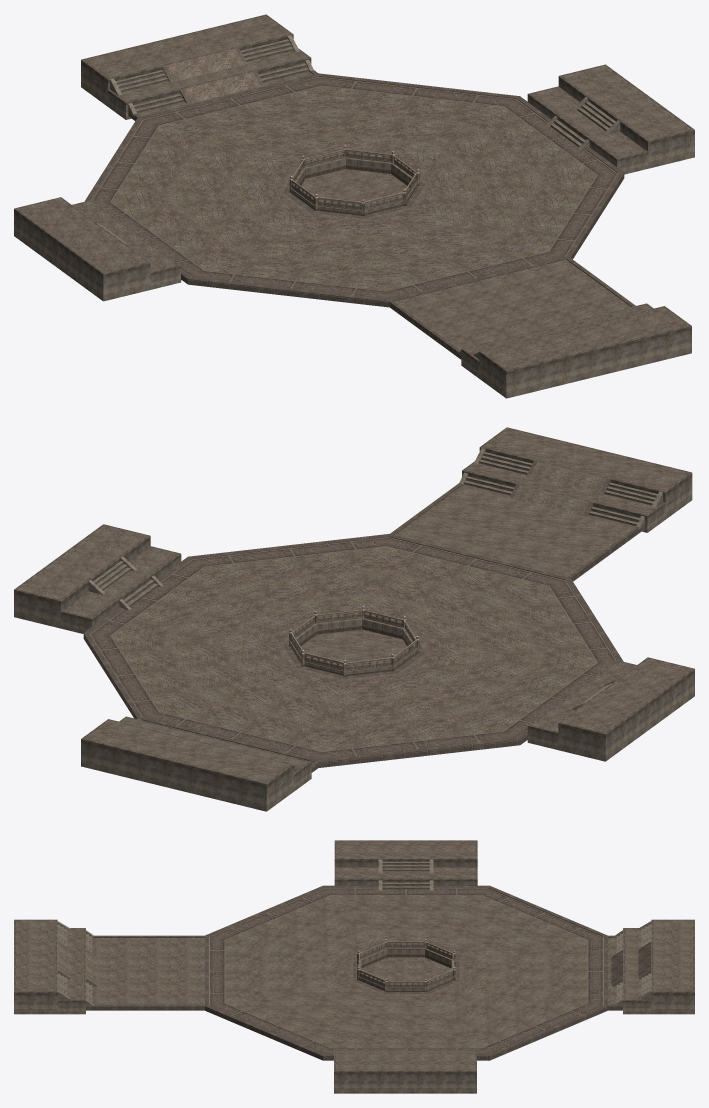
Rendered from cj_jang_gate.glb.
The picture shows the model from 3 angles, top to bottom: view 1: azimuth 30°, elevation 25°; view 2: azimuth 150°, elevation 25°; view 3: azimuth 270°, elevation 25°; orthographic projection. The views are drawn at different scales.
Parts seen in each view (by area): view 1: cj_jang_gate07, cj_jang_gate06, cj_jang_gate08, cj_jang_pondFen, cj_jang_pondFen02; view 2: cj_jang_gate07, cj_jang_gate06, cj_jang_gate08, cj_jang_pondFen, cj_jang_pondFen02; view 3: cj_jang_gate07, cj_jang_gate08, cj_jang_gate06, cj_jang_pondFen, cj_jang_pondFen02.
Part boxes in pixels (<box>): cj_jang_gate07: <box>18,16,691,369</box>; cj_jang_gate06: <box>14,14,694,398</box>; cj_jang_gate08: <box>84,48,635,359</box>; cj_jang_pondFen: <box>289,145,419,215</box>; cj_jang_pondFen02: <box>291,149,416,210</box>; cj_jang_gate07: <box>17,428,691,782</box>; cj_jang_gate06: <box>14,427,694,811</box>; cj_jang_gate08: <box>83,460,644,772</box>; cj_jang_pondFen: <box>289,606,419,676</box>; cj_jang_pondFen02: <box>291,609,417,671</box>; cj_jang_gate07: <box>16,841,692,1070</box>; cj_jang_gate08: <box>57,885,651,1060</box>; cj_jang_gate06: <box>14,840,694,1093</box>; cj_jang_pondFen: <box>357,939,455,991</box>; cj_jang_pondFen02: <box>359,941,453,988</box>.
Bounding box in the file's own units: 106 × 4.71 × 132.
Materials: 5 (5 with a texture image).
